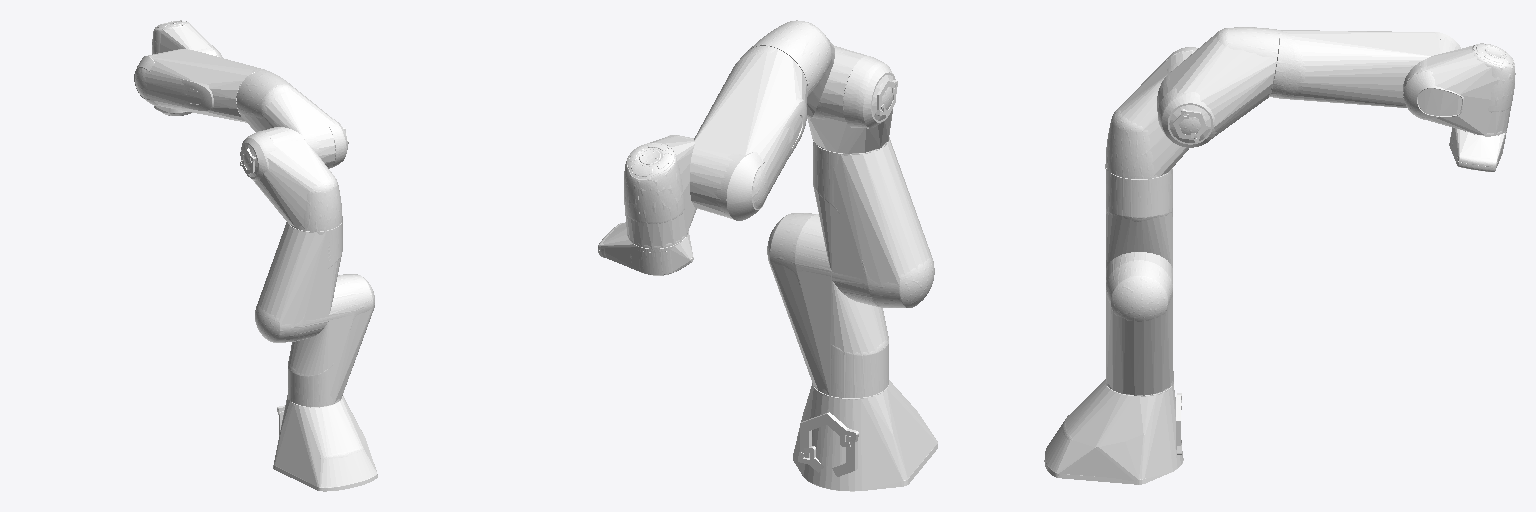
The robot description file, URDF, robot "converted_robot":
<?xml version="1.0" ?>
<robot name="converted_robot">
   <!--generated with mjcf_urdf_simple_converter (https://github.com/Yasu31/mjcf_urdf_simple_converter)-->
   <link name="world">
      <inertial>
         <origin xyz="0.0 0.0 0.0" rpy="0.0 0.0 0.0"/>
         <mass value="0.0"/>
         <inertia ixx="0.0" iyy="0.0" izz="0.0" ixy="0" ixz="0" iyz="0"/>
      </inertial>
   </link>
   <link name="robot_panda0">
      <inertial>
         <origin xyz="0.0 -0.1 0.823" rpy="0.0 0.0 1.5700001242847266"/>
         <mass value="0.0"/>
         <inertia ixx="0.0" iyy="0.0" izz="0.0" ixy="0" ixz="0" iyz="0"/>
      </inertial>
   </link>
   <joint type="fixed" name="world2robot_panda0_fixed">
      <parent link="world"/>
      <child link="robot_panda0"/>
      <origin xyz="0.0 -0.1 0.823" rpy="0.0 0.0 1.5700001242847266"/>
   </joint>
   <link name="panda0_link0">
      <inertial>
         <origin xyz="-0.029189765433072147 -0.0008794649788944781 0.0566031915141631" rpy="0.07341050648529257 -1.1999954549116758 3.0813768508296935"/>
         <mass value="2.91242"/>
         <inertia ixx="0.012252747599100987" iyy="0.011363973543842151" izz="0.008277853958097102" ixy="0" ixz="0" iyz="0"/>
      </inertial>
      <visual name="link0_viz">
         <origin xyz="-0.021984847396766805 -0.0008896593739903566 0.05397633820753746" rpy="0.0005388346167558566 -1.2165331197244809 -3.1263967787637412"/>
         <geometry>
            <mesh filename="../panda_meshes/converted_link0_viz.stl"/>
         </geometry>
         <material name="white"/>
      </visual>
      <visual name="link0_col">
         <origin xyz="-0.029189765433072147 -0.0008794649788944781 0.0566031915141631" rpy="0.07341050648529257 -1.1999954549116756 3.0813768508296935"/>
         <geometry>
            <mesh filename="../panda_meshes/converted_link0_col.stl"/>
         </geometry>
         <material name="white"/>
      </visual>
   </link>
   <joint type="fixed" name="robot_panda02panda0_link0_fixed">
      <parent link="robot_panda0"/>
      <child link="panda0_link0"/>
      <origin xyz="0.0 0.0 0.0" rpy="0.0 0.0 0.0"/>
   </joint>
   <link name="panda0_link1">
      <inertial>
         <origin xyz="1.139898131675401e-05 -0.03126552803743275 -0.06937330598619522" rpy="0.3507575596779383 -0.00032182734340535646 0.0006491282822314315"/>
         <mass value="2.7063"/>
         <inertia ixx="0.016028532125252317" iyy="0.015027567082764292" izz="0.0053318324257230895" ixy="0" ixz="0" iyz="0"/>
      </inertial>
      <visual name="link1_viz">
         <origin xyz="2.2333099850851852e-06 -0.03247938383820199 -0.06757587010715757" rpy="0.38337047278479996 0.00013917529691687136 -0.00037583015721226465"/>
         <geometry>
            <mesh filename="../panda_meshes/converted_link1_viz.stl"/>
         </geometry>
         <material name="white"/>
      </visual>
      <visual name="link1_col">
         <origin xyz="1.139898131675401e-05 -0.03126552803743275 -0.06937330598619522" rpy="0.3507575596779383 -0.00032182734340535646 0.0006491282822314315"/>
         <geometry>
            <mesh filename="../panda_meshes/converted_link1_col.stl"/>
         </geometry>
         <material name="white"/>
      </visual>
   </link>
   <link name="panda0_joint1_jointbody">
      <inertial>
         <origin xyz="0.0 0.0 0.0" rpy="0.0 0.0 0.0"/>
         <mass value="0.001"/>
         <inertia ixx="1e-09" iyy="1e-09" izz="1e-09" ixy="0" ixz="0" iyz="0"/>
      </inertial>
   </link>
   <joint type="revolute" name="panda0_joint1">
      <parent link="panda0_link0"/>
      <child link="panda0_joint1_jointbody"/>
      <origin xyz="0.0 0.0 0.333" rpy="0.0 0.0 0.0"/>
      <axis xyz="0.0 0.0 1.0"/>
      <limit lower="-2.8973" upper="2.8973" effort="100" velocity="100"/>
   </joint>
   <joint type="fixed" name="panda0_joint1_offset">
      <parent link="panda0_joint1_jointbody"/>
      <child link="panda0_link1"/>
      <origin xyz="-0.0 -0.0 -0.0" rpy="0.0 0.0 0.0"/>
   </joint>
   <link name="panda0_link2">
      <inertial>
         <origin xyz="-1.3176553398219796e-05 -0.07032155252075616 0.031178239145109848" rpy="1.9167766250212852 3.863386533176083e-05 -0.00017520097652501398"/>
         <mass value="2.73046"/>
         <inertia ixx="0.016372443569979776" iyy="0.015352789885543734" izz="0.005393701000602283" ixy="0" ixz="0" iyz="0"/>
      </inertial>
      <visual name="link2_viz">
         <origin xyz="3.0683216894497734e-06 -0.06860273544627478 0.03220972526329134" rpy="1.9510753664554936 -0.0003840755309343358 -0.00012992900913055827"/>
         <geometry>
            <mesh filename="../panda_meshes/converted_link2_viz.stl"/>
         </geometry>
         <material name="white"/>
      </visual>
      <visual name="link2_col">
         <origin xyz="-1.3176553398219796e-05 -0.07032155252075616 0.031178239145109848" rpy="1.9167766250212854 3.8633865331982875e-05 -0.00017520097652501398"/>
         <geometry>
            <mesh filename="../panda_meshes/converted_link2_col.stl"/>
         </geometry>
         <material name="white"/>
      </visual>
   </link>
   <link name="panda0_joint2_jointbody">
      <inertial>
         <origin xyz="0.0 0.0 0.0" rpy="0.0 0.0 0.0"/>
         <mass value="0.001"/>
         <inertia ixx="1e-09" iyy="1e-09" izz="1e-09" ixy="0" ixz="0" iyz="0"/>
      </inertial>
   </link>
   <joint type="revolute" name="panda0_joint2">
      <parent link="panda0_link1"/>
      <child link="panda0_joint2_jointbody"/>
      <origin xyz="0.0 0.0 0.0" rpy="-1.5707963267948957 0.0 0.0"/>
      <axis xyz="0.0 0.0 1.0"/>
      <limit lower="-1.7628" upper="1.7628" effort="100" velocity="100"/>
   </joint>
   <joint type="fixed" name="panda0_joint2_offset">
      <parent link="panda0_joint2_jointbody"/>
      <child link="panda0_link2"/>
      <origin xyz="-0.0 -0.0 -0.0" rpy="0.0 0.0 0.0"/>
   </joint>
   <link name="panda0_link3">
      <inertial>
         <origin xyz="0.04434830616977217 0.02492832585533832 -0.038129984535498415" rpy="0.6264281539686369 -0.6489124028865899 2.7888150643653677"/>
         <mass value="2.04104"/>
         <inertia ixx="0.008704799647862464" iyy="0.008526189975065757" izz="0.003659192966081935" ixy="0" ixz="0" iyz="0"/>
      </inertial>
      <visual name="link3_viz">
         <origin xyz="0.04853890609499807 0.03426551671468284 -0.031158988253545027" rpy="0.5620645638906847 -0.7724060532253757 3.0330843961200182"/>
         <geometry>
            <mesh filename="../panda_meshes/converted_link3_viz.stl"/>
         </geometry>
         <material name="white"/>
      </visual>
      <visual name="link3_dark_viz">
         <origin xyz="0.07826594887105137 0.08142974519737879 -0.00406312503726814" rpy="0.9103914044624806 0.05315688187292977 1.6361660028735399"/>
         <geometry>
            <mesh filename="../panda_meshes/converted_link3_dark_viz.stl"/>
         </geometry>
         <material name="white"/>
      </visual>
      <visual name="link3_col">
         <origin xyz="0.04434830616977217 0.02492832585533832 -0.038129984535498415" rpy="0.6264281539686367 -0.6489124028865898 2.788815064365368"/>
         <geometry>
            <mesh filename="../panda_meshes/converted_link3_col.stl"/>
         </geometry>
         <material name="white"/>
      </visual>
   </link>
   <link name="panda0_joint3_jointbody">
      <inertial>
         <origin xyz="0.0 0.0 0.0" rpy="0.0 0.0 0.0"/>
         <mass value="0.001"/>
         <inertia ixx="1e-09" iyy="1e-09" izz="1e-09" ixy="0" ixz="0" iyz="0"/>
      </inertial>
   </link>
   <joint type="revolute" name="panda0_joint3">
      <parent link="panda0_link2"/>
      <child link="panda0_joint3_jointbody"/>
      <origin xyz="0.0 -0.316 0.0" rpy="1.5707963267948963 0.0 0.0"/>
      <axis xyz="0.0 0.0 1.0"/>
      <limit lower="-2.8973" upper="2.8973" effort="100" velocity="100"/>
   </joint>
   <joint type="fixed" name="panda0_joint3_offset">
      <parent link="panda0_joint3_jointbody"/>
      <child link="panda0_link3"/>
      <origin xyz="-0.0 -0.0 -0.0" rpy="0.0 0.0 0.0"/>
   </joint>
   <link name="panda0_link4">
      <inertial>
         <origin xyz="-0.038550294327056006 0.03952560974766748 0.024716241456280232" rpy="1.1575252530204931 0.36233734062035716 0.6286469250141417"/>
         <mass value="2.08129"/>
         <inertia ixx="0.009006880847790886" iyy="0.008831790803553114" izz="0.0037733476177690558" ixy="0" ixz="0" iyz="0"/>
      </inertial>
      <visual name="link4_viz">
         <origin xyz="-0.034582874588439914 0.03234212044021938 0.033850654593722634" rpy="1.0871199462729406 0.12778884236414356 0.7368487765625511"/>
         <geometry>
            <mesh filename="../panda_meshes/converted_link4_viz.stl"/>
         </geometry>
         <material name="white"/>
      </visual>
      <visual name="link4_dark_viz">
         <origin xyz="-0.005059102785114565 0.004050337360715577 0.08043076246399442" rpy="0.017273021275597378 -1.4866930441457151 2.4623856789347984"/>
         <geometry>
            <mesh filename="../panda_meshes/converted_link4_dark_viz.stl"/>
         </geometry>
         <material name="white"/>
      </visual>
      <visual name="link4_col">
         <origin xyz="-0.038550294327056006 0.03952560974766748 0.024716241456280232" rpy="1.1575252530204934 0.36233734062035716 0.6286469250141418"/>
         <geometry>
            <mesh filename="../panda_meshes/converted_link4_col.stl"/>
         </geometry>
         <material name="white"/>
      </visual>
   </link>
   <link name="panda0_joint4_jointbody">
      <inertial>
         <origin xyz="0.0 0.0 0.0" rpy="0.0 0.0 0.0"/>
         <mass value="0.001"/>
         <inertia ixx="1e-09" iyy="1e-09" izz="1e-09" ixy="0" ixz="0" iyz="0"/>
      </inertial>
   </link>
   <joint type="revolute" name="panda0_joint4">
      <parent link="panda0_link3"/>
      <child link="panda0_joint4_jointbody"/>
      <origin xyz="0.0825 0.0 0.0" rpy="1.5707963267948963 0.0 0.0"/>
      <axis xyz="0.0 0.0 1.0"/>
      <limit lower="-3.0718" upper="-0.4" effort="100" velocity="100"/>
   </joint>
   <joint type="fixed" name="panda0_joint4_offset">
      <parent link="panda0_joint4_jointbody"/>
      <child link="panda0_link4"/>
      <origin xyz="-0.0 -0.0 -0.0" rpy="0.0 0.0 0.0"/>
   </joint>
   <link name="panda0_link5">
      <inertial>
         <origin xyz="-6.367762704756645e-05 0.03841237270479223 -0.10997017500559451" rpy="-0.27197776604413226 0.0020967099799318323 0.0011148540412214414"/>
         <mass value="3.00049"/>
         <inertia ixx="0.02618581046633134" iyy="0.02524217285800852" izz="0.005348180896198652" ixy="0" ixz="0" iyz="0"/>
      </inertial>
      <visual name="link5_viz">
         <origin xyz="-4.666435241145311e-05 0.052776968679302275 -0.09842004873748064" rpy="-0.2898827389028237 0.0013934871359873036 0.004714140157746488"/>
         <geometry>
            <mesh filename="../panda_meshes/converted_link5_viz.stl"/>
         </geometry>
         <material name="white"/>
      </visual>
      <visual name="link5_dark_viz">
         <origin xyz="-0.0001488770396455637 0.09673623430592755 -0.033143402548721564" rpy="0.0024935213048430382 0.0495754496836307 1.5665339126678446"/>
         <geometry>
            <mesh filename="../panda_meshes/converted_link5_dark_viz.stl"/>
         </geometry>
         <material name="white"/>
      </visual>
      <visual name="link5_col">
         <origin xyz="-6.367762704756645e-05 0.03841237270479223 -0.10997017500559451" rpy="-0.27197776604413215 0.0020967099799316102 0.0011148540412214136"/>
         <geometry>
            <mesh filename="../panda_meshes/converted_link5_col.stl"/>
         </geometry>
         <material name="white"/>
      </visual>
   </link>
   <link name="panda0_joint5_jointbody">
      <inertial>
         <origin xyz="0.0 0.0 0.0" rpy="0.0 0.0 0.0"/>
         <mass value="0.001"/>
         <inertia ixx="1e-09" iyy="1e-09" izz="1e-09" ixy="0" ixz="0" iyz="0"/>
      </inertial>
   </link>
   <joint type="revolute" name="panda0_joint5">
      <parent link="panda0_link4"/>
      <child link="panda0_joint5_jointbody"/>
      <origin xyz="-0.0825 0.384 0.0" rpy="-1.5707963267948957 0.0 0.0"/>
      <axis xyz="0.0 0.0 1.0"/>
      <limit lower="-2.8973" upper="2.8973" effort="100" velocity="100"/>
   </joint>
   <joint type="fixed" name="panda0_joint5_offset">
      <parent link="panda0_joint5_jointbody"/>
      <child link="panda0_link5"/>
      <origin xyz="-0.0 -0.0 -0.0" rpy="0.0 0.0 0.0"/>
   </joint>
   <link name="panda0_link6">
      <inertial>
         <origin xyz="0.05100229436563991 0.00693267296652053 0.006168993350723507" rpy="-3.0615998737983494 -1.4277689715854653 0.04852070640740158"/>
         <mass value="1.3235"/>
         <inertia ixx="0.004018128712601542" iyy="0.0032851446119434107" izz="0.0020794507936098493" ixy="0" ixz="0" iyz="0"/>
      </inertial>
      <visual name="link6_viz">
         <origin xyz="0.05225810515193972 0.006880303416204388 0.008534384591949348" rpy="-3.069238024326488 -1.361132407610263 0.07945352484196389"/>
         <geometry>
            <mesh filename="../panda_meshes/converted_link6_viz.stl"/>
         </geometry>
         <material name="white"/>
      </visual>
      <visual name="link6_dark_viz">
         <origin xyz="0.04452175313348117 0.03310736130263862 0.022291914090851093" rpy="2.4222242876475013 -1.142765253857969 1.4465912259522415"/>
         <geometry>
            <mesh filename="../panda_meshes/converted_link6_dark_viz.stl"/>
         </geometry>
         <material name="white"/>
      </visual>
      <visual name="link6_col">
         <origin xyz="0.05100229436563991 0.00693267296652053 0.006168993350723507" rpy="-3.0615998737983494 -1.4277689715854653 0.04852070640740158"/>
         <geometry>
            <mesh filename="../panda_meshes/converted_link6_col.stl"/>
         </geometry>
         <material name="white"/>
      </visual>
   </link>
   <link name="panda0_joint6_jointbody">
      <inertial>
         <origin xyz="0.0 0.0 0.0" rpy="0.0 0.0 0.0"/>
         <mass value="0.001"/>
         <inertia ixx="1e-09" iyy="1e-09" izz="1e-09" ixy="0" ixz="0" iyz="0"/>
      </inertial>
   </link>
   <joint type="revolute" name="panda0_joint6">
      <parent link="panda0_link5"/>
      <child link="panda0_joint6_jointbody"/>
      <origin xyz="0.0 0.0 0.0" rpy="0.7853981633974483 -1.569670612918126 0.7853981633974483"/>
      <axis xyz="0.0 0.0 1.0"/>
      <limit lower="-1.6573" upper="2.1127" effort="100" velocity="100"/>
   </joint>
   <joint type="fixed" name="panda0_joint6_offset">
      <parent link="panda0_joint6_jointbody"/>
      <child link="panda0_link6"/>
      <origin xyz="-0.0 -0.0 -0.0" rpy="0.0 0.0 0.0"/>
   </joint>
   <link name="panda0_link7">
      <inertial>
         <origin xyz="0.010361372115882629 0.010359603871236887 0.07910777287138845" rpy="3.138032285623005 -1.5171405401134985 -2.3520385516245224"/>
         <mass value="0.2"/>
         <inertia ixx="0.0003055845143865651" iyy="0.00025305457597797404" izz="0.00013397897780101473" ixy="0" ixz="0" iyz="0"/>
      </inertial>
      <visual name="link7_viz">
         <origin xyz="0.009733988117508616 0.009872670539790454 0.07875925516057704" rpy="-0.13338769587534194 -1.5230739991879987 -2.2265071063078636"/>
         <geometry>
            <mesh filename="../panda_meshes/converted_link7_viz.stl"/>
         </geometry>
         <material name="white"/>
      </visual>
      <visual name="link7_dark_viz">
         <origin xyz="0.042070756210377716 0.04213157284030423 0.08206855384772965" rpy="-1.5780280770386714 -1.3502633071313788 -2.3564758506473975"/>
         <geometry>
            <mesh filename="../panda_meshes/converted_link7_dark_viz.stl"/>
         </geometry>
         <material name="white"/>
      </visual>
      <visual name="link7_col">
         <origin xyz="0.010361372115882629 0.010359603871236887 0.07910777287138845" rpy="3.138032285623005 -1.5171405401134985 -2.3520385516245224"/>
         <geometry>
            <mesh filename="../panda_meshes/converted_link7_col.stl"/>
         </geometry>
         <material name="white"/>
      </visual>
   </link>
   <link name="panda0_joint7_jointbody">
      <inertial>
         <origin xyz="0.0 0.0 0.0" rpy="0.0 0.0 0.0"/>
         <mass value="0.001"/>
         <inertia ixx="1e-09" iyy="1e-09" izz="1e-09" ixy="0" ixz="0" iyz="0"/>
      </inertial>
   </link>
   <joint type="revolute" name="panda0_joint7">
      <parent link="panda0_link6"/>
      <child link="panda0_joint7_jointbody"/>
      <origin xyz="0.088 0.0 0.0" rpy="1.5696709361563443 -0.7853995448785632 0.0007952610088441947"/>
      <axis xyz="0.0 0.0 1.0"/>
      <limit lower="-2.8973" upper="2.8973" effort="100" velocity="100"/>
   </joint>
   <joint type="fixed" name="panda0_joint7_offset">
      <parent link="panda0_joint7_jointbody"/>
      <child link="panda0_link7"/>
      <origin xyz="-0.0 -0.0 -0.0" rpy="0.0 0.0 0.0"/>
   </joint>
   <link name="ee_mount">
      <inertial>
         <origin xyz="0.0 0.0 0.11" rpy="0.0 0.0 -0.7853970066908718"/>
         <mass value="0.0"/>
         <inertia ixx="0.0" iyy="0.0" izz="0.0" ixy="0" ixz="0" iyz="0"/>
      </inertial>
   </link>
   <joint type="fixed" name="panda0_link72ee_mount_fixed">
      <parent link="panda0_link7"/>
      <child link="ee_mount"/>
      <origin xyz="0.0 0.0 0.11" rpy="0.0 0.0 -0.7853970066908718"/>
   </joint>
   <material name="white">
      <color rgba="1 1 1 1"/>
   </material>
</robot>

--- What the picture shows (computed from the rendered views, not written in the file) ---
3 views of the same robot in one strip: view 1: azimuth 30°, elevation 25°; view 2: azimuth 150°, elevation 25°; view 3: azimuth 270°, elevation 25° (orthographic).
Model converted_robot with 18 links and 17 joints (7 revolute, 10 fixed), rooted at world, posed joints at zero except 1 at the middle of their limits (panda0_joint4 = -1.74).
Visible links, largest first — view 1: panda0_link2, panda0_link0, panda0_link3, panda0_link1, panda0_link5, panda0_link4, panda0_link6; view 2: panda0_link2, panda0_link5, panda0_link1, panda0_link0, panda0_link3, panda0_link6, panda0_link4, panda0_link7; view 3: panda0_link0, panda0_link5, panda0_link4, panda0_link1, panda0_link6, panda0_link3, panda0_link2, panda0_link7.
Link boxes in pixels (bbox=[...]): panda0_link2: bbox=[255, 221, 342, 342]; panda0_link0: bbox=[273, 395, 377, 491]; panda0_link3: bbox=[240, 127, 342, 231]; panda0_link1: bbox=[288, 274, 374, 406]; panda0_link5: bbox=[134, 49, 269, 122]; panda0_link4: bbox=[236, 71, 348, 168]; panda0_link6: bbox=[152, 20, 222, 57]; panda0_link2: bbox=[813, 137, 934, 307]; panda0_link5: bbox=[690, 46, 807, 220]; panda0_link1: bbox=[767, 213, 888, 397]; panda0_link0: bbox=[793, 380, 937, 491]; panda0_link3: bbox=[807, 46, 897, 153]; panda0_link6: bbox=[624, 135, 696, 248]; panda0_link4: bbox=[748, 20, 834, 118]; panda0_link7: bbox=[598, 222, 693, 275]; panda0_link0: bbox=[1044, 379, 1183, 484]; panda0_link5: bbox=[1270, 30, 1460, 107]; panda0_link4: bbox=[1157, 27, 1279, 147]; panda0_link1: bbox=[1106, 252, 1173, 395]; panda0_link6: bbox=[1403, 43, 1515, 135]; panda0_link3: bbox=[1106, 47, 1197, 178]; panda0_link2: bbox=[1105, 164, 1172, 267]; panda0_link7: bbox=[1449, 127, 1506, 171].
Size in the robot's own frame: 0.2589 by 0.7638 by 0.7695 metres.
Meshes: 21 distinct files referenced, 21 mesh visuals loaded (21 binary STL).